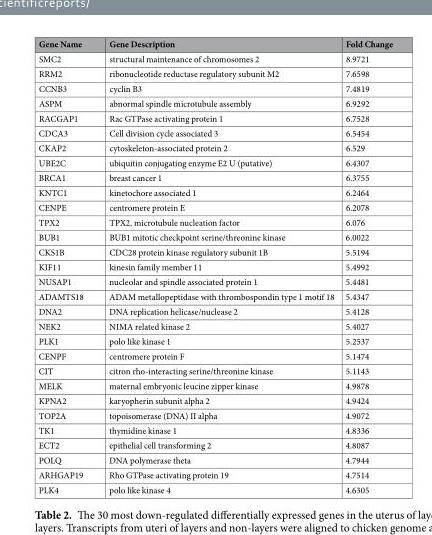table: (37, 37, 392, 495)
table column: (95, 37, 339, 495), (37, 37, 95, 495), (339, 37, 392, 495)
table column header: (37, 37, 392, 50)
table row: (37, 50, 392, 65), (37, 65, 392, 80), (37, 80, 392, 95), (37, 95, 392, 110), (37, 110, 392, 125), (37, 125, 392, 140), (37, 154, 392, 169), (37, 169, 392, 184), (37, 184, 392, 199), (37, 199, 392, 214), (37, 214, 392, 229), (37, 229, 392, 244), (37, 244, 392, 259), (37, 273, 392, 288), (37, 288, 392, 303), (37, 303, 392, 318), (37, 318, 392, 333), (37, 333, 392, 348), (37, 348, 392, 363), (37, 377, 392, 392), (37, 392, 392, 407), (37, 407, 392, 422), (37, 422, 392, 437), (37, 437, 392, 452), (37, 452, 392, 467), (37, 140, 392, 154), (37, 259, 392, 273), (37, 363, 392, 377), (37, 467, 392, 481), (37, 481, 392, 495), (37, 37, 392, 50)
